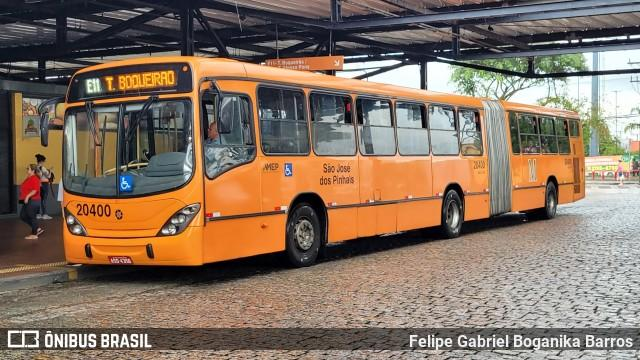TBOQUEIRAO: (100, 67, 180, 94)
